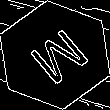M_SE: (19, 21, 91, 89)
